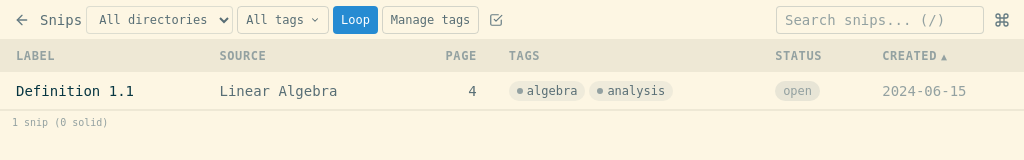
Test case: SnipsPage › tag filter dropdown has a search input
Note: Open tag dropdown
Step 1. Click the button "All tags" → [283, 20], box [237, 6, 329, 34]
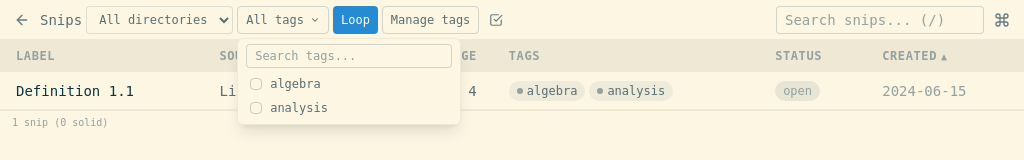
expect the field with placeholder "Search tags..." is shown: met, box [246, 44, 452, 68]
